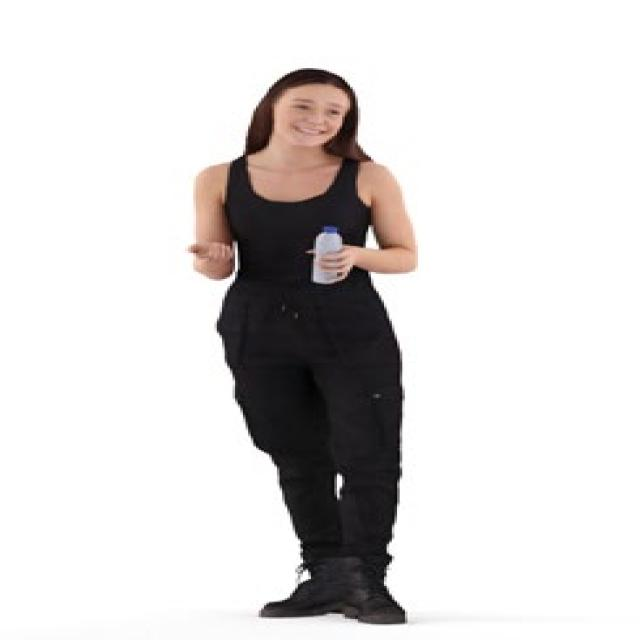standing: (180, 66, 434, 630)
